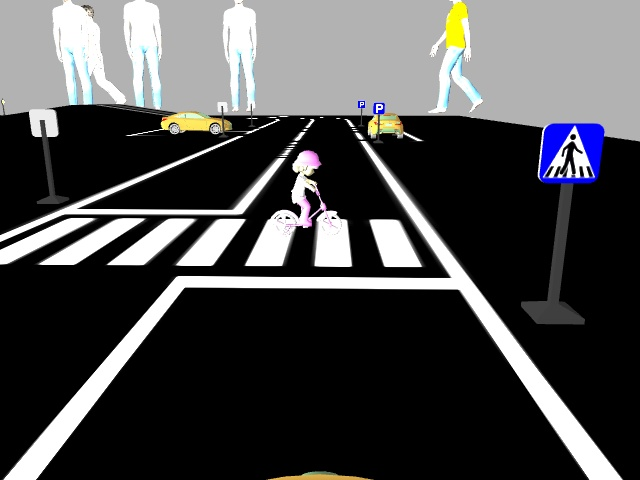Crosswalk: (537, 123, 603, 185)
Parking: (371, 101, 386, 114), (356, 99, 365, 108)
Pedestrian: (268, 151, 343, 236)
